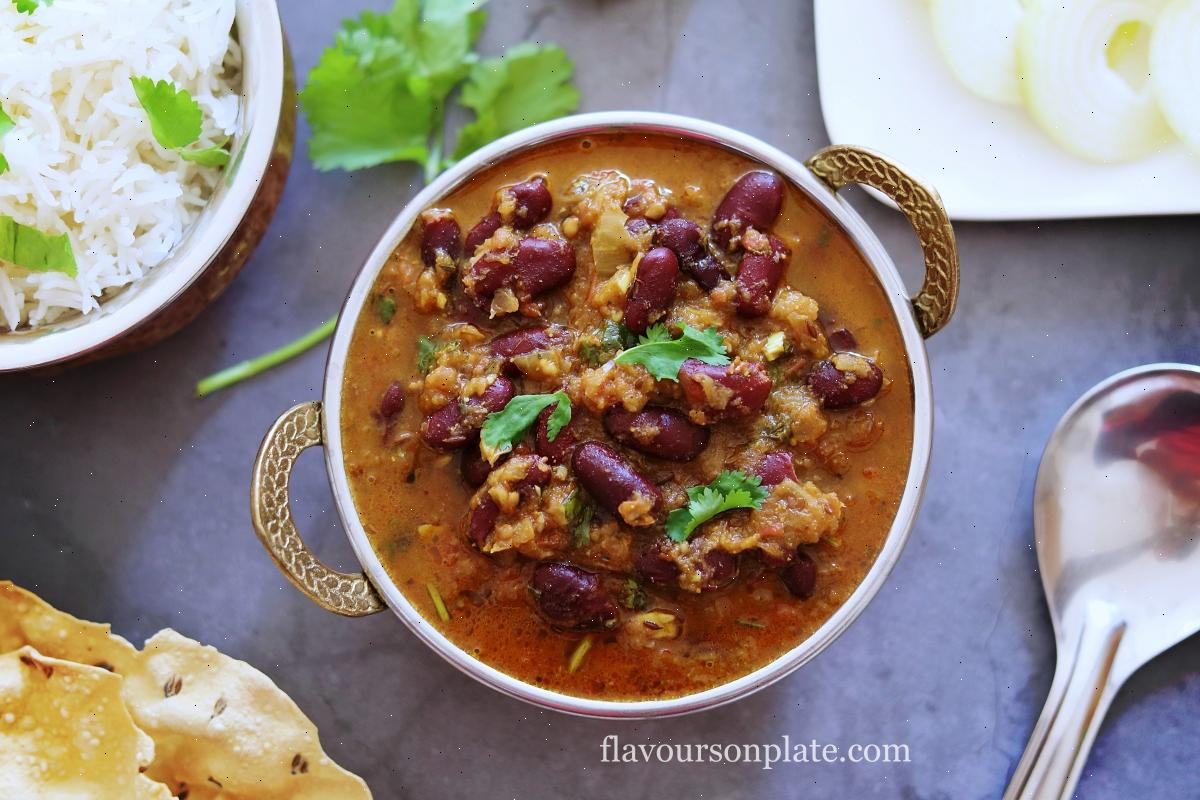rajma: (402, 200, 862, 686)
